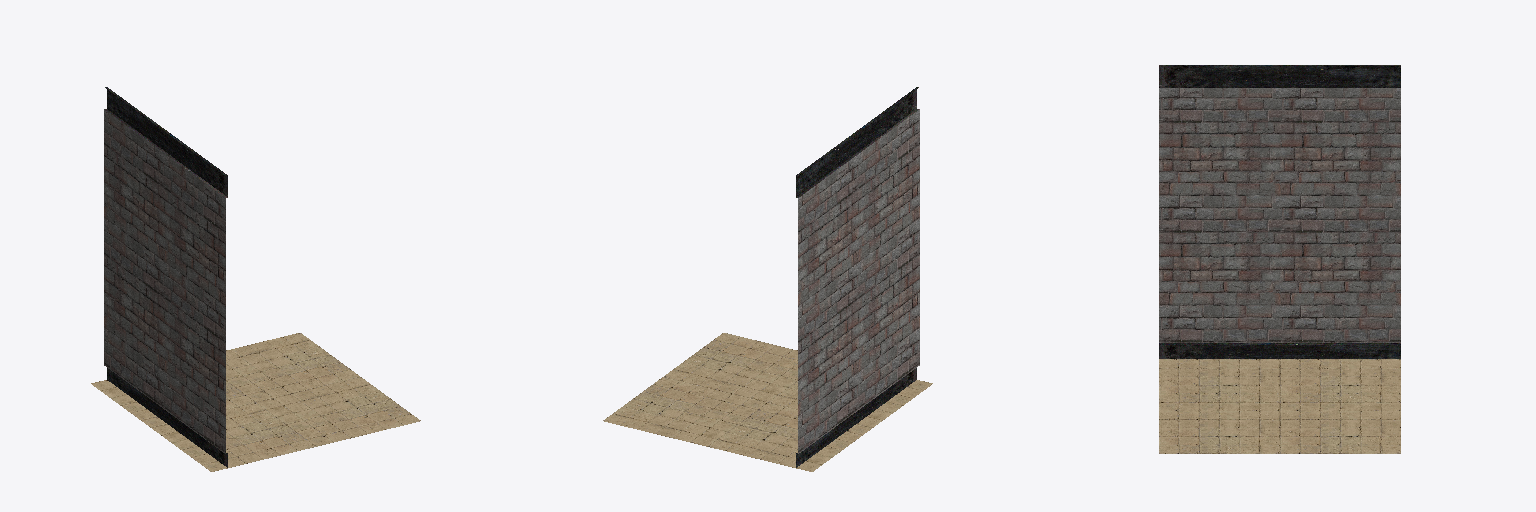
The picture shows the model from 3 angles: view 1: azimuth 30°, elevation 25°; view 2: azimuth 150°, elevation 25°; view 3: azimuth 270°, elevation 25°; orthographic projection.
Parts seen in each view (by area): view 1: Box106, Plane01, Object236, Object237; view 2: Box106, Plane01, Object236, Object237; view 3: Box106, Plane01, Object236, Object237.
Boxes of the visible parts, x1,y1,x2,y2 form: Box106: [104, 109, 225, 453]; Plane01: [91, 333, 420, 471]; Object236: [105, 87, 227, 197]; Object237: [107, 368, 227, 467]; Box106: [798, 109, 919, 453]; Plane01: [603, 333, 932, 471]; Object236: [796, 87, 918, 197]; Object237: [796, 368, 916, 467]; Box106: [1159, 88, 1400, 342]; Plane01: [1159, 359, 1400, 453]; Object236: [1159, 65, 1400, 87]; Object237: [1159, 343, 1400, 358].
Size of the model in its own units: 3 by 4 by 3.
Materials: 3 (3 with a texture image).